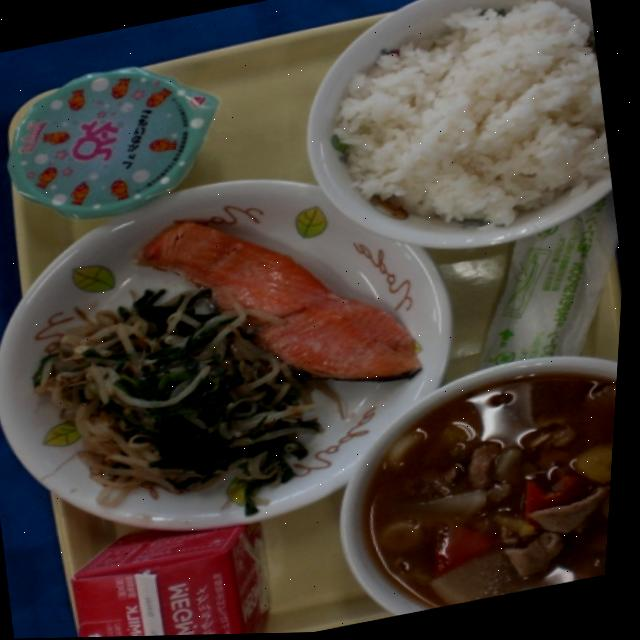熟制海鲜: (108, 156, 452, 438)
